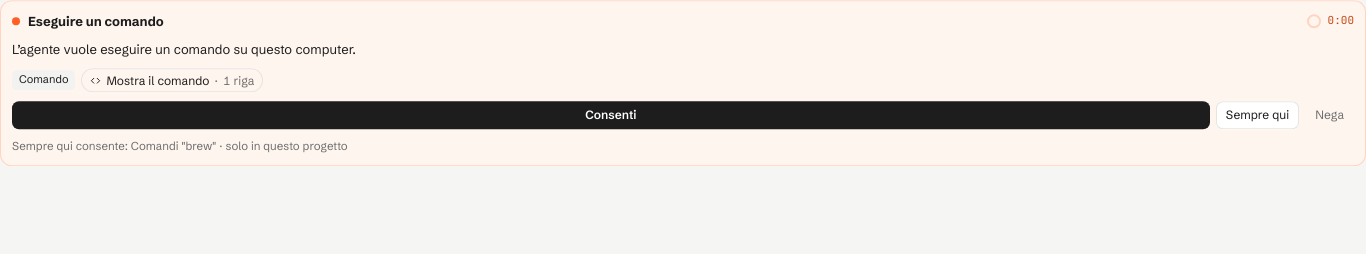
Test case: ApprovalCard › shows the command and sends a one-time approval
Click the button "Mostra il comando 1 riga" at (172, 80), box [82, 68, 263, 92]
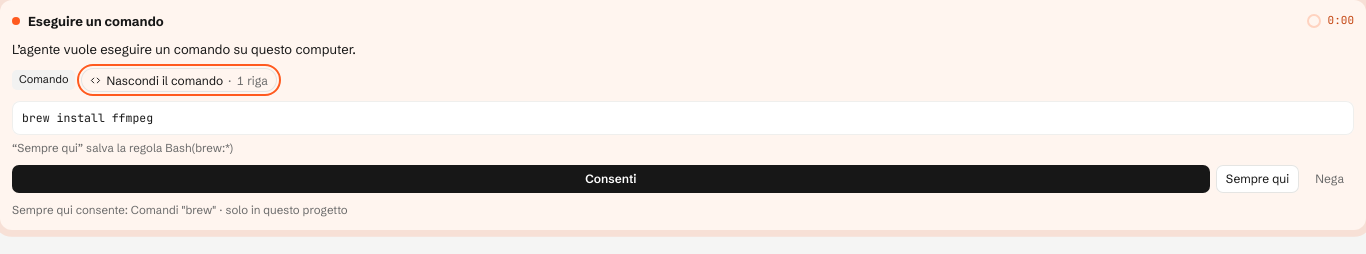
Expected: the text "1 riga" is shown, [228, 72, 268, 89]
Expected: the text "brew install ffmpeg" is shown, [12, 101, 1354, 135]
Click the button "Consenti" at (611, 179), box [12, 165, 1210, 193]
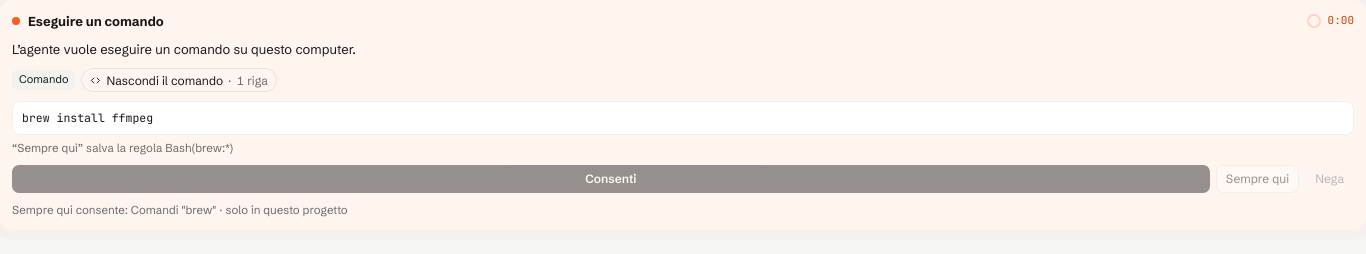
Expected: the button "Sempre qui" is disabled, [1216, 165, 1299, 193]
